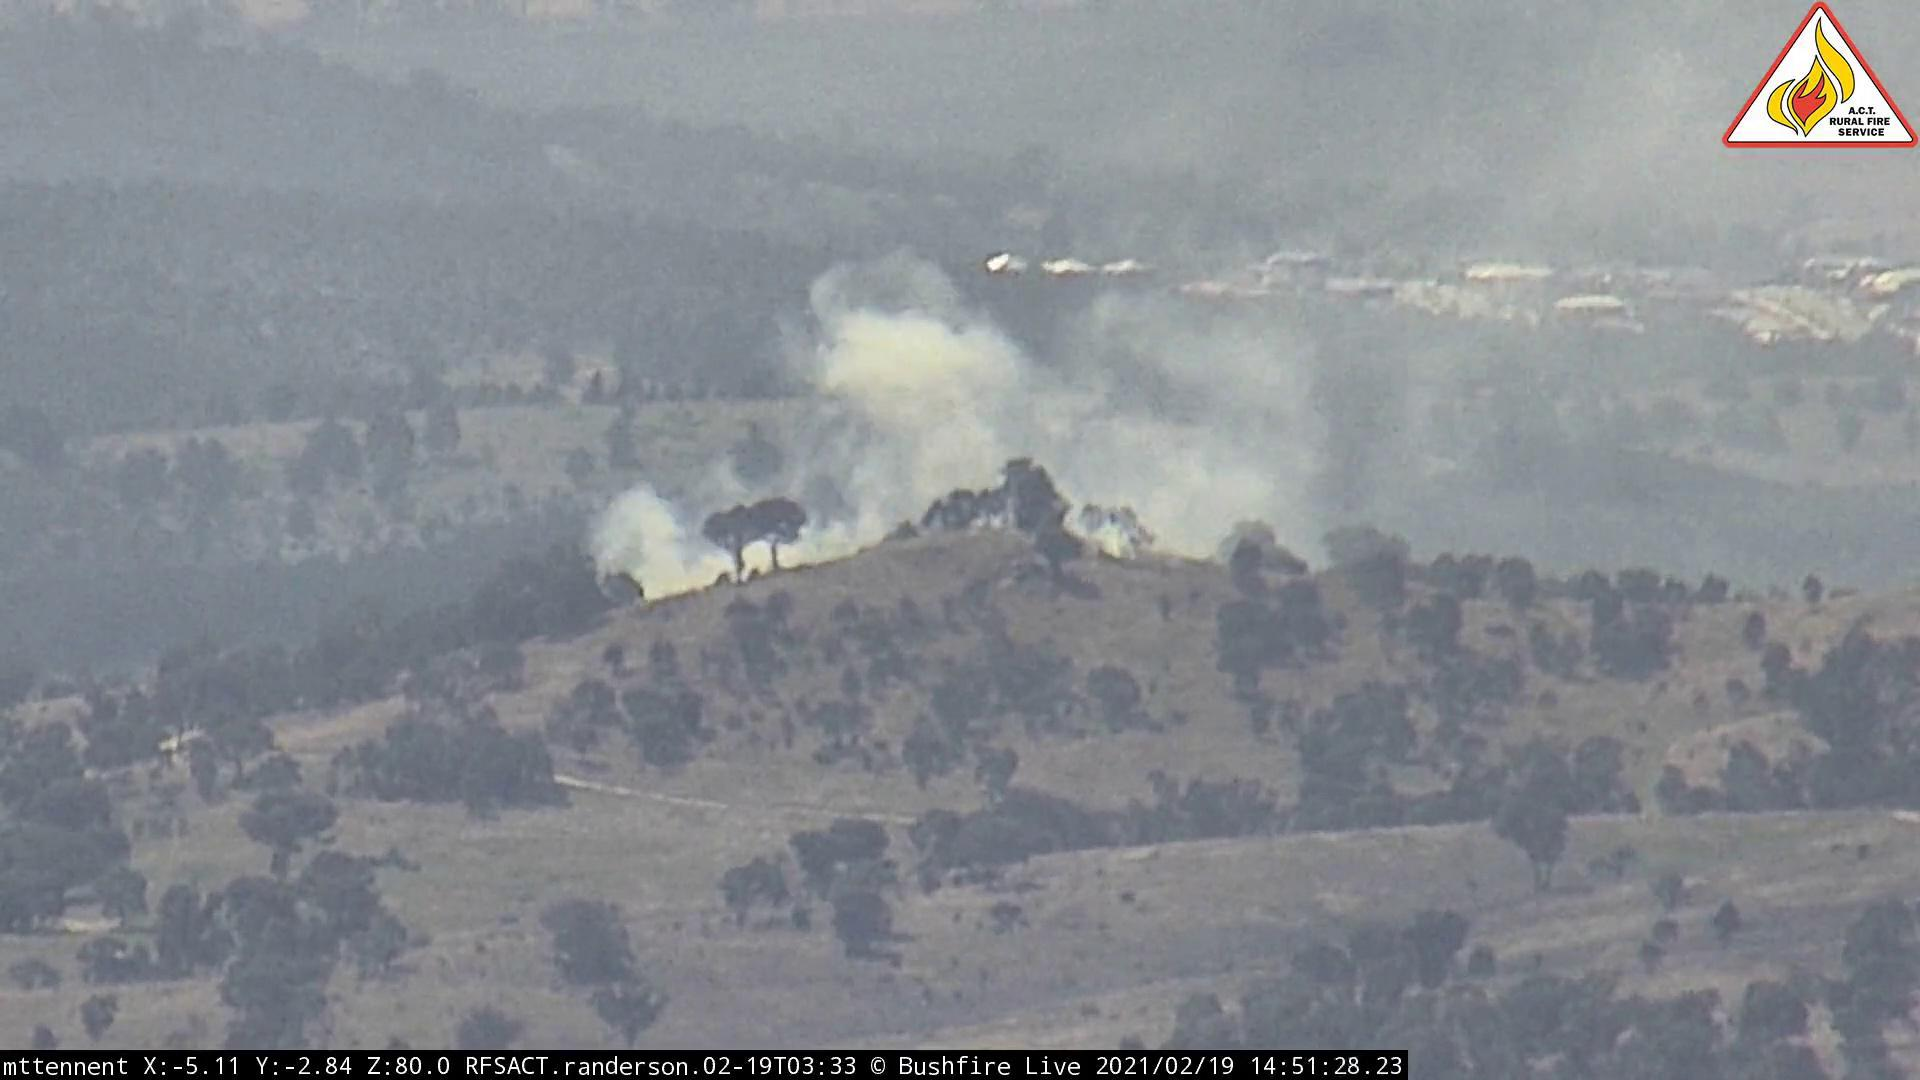instance_salient_object: (585, 204, 1422, 618)
